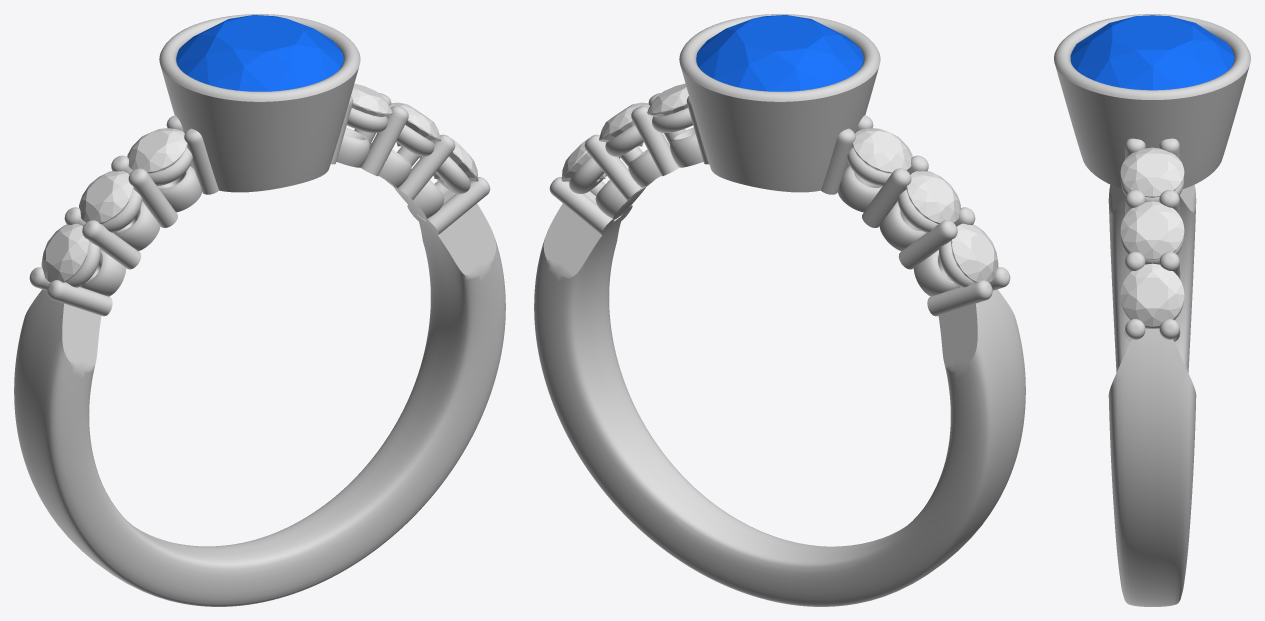
The model's file is bluesapphire-round-platinum-bezelset-straighttaperedband-3stone.glb.
3 views of the same model, side by side, from view 1: azimuth 30°, elevation 25°; view 2: azimuth 150°, elevation 25°; view 3: azimuth 270°, elevation 25° (orthographic). The views are drawn at different scales.
Parts seen in each view (by area): view 1: metal, stone, side.001, side.002, side, side.003, side.004; view 2: metal, stone, side.001, side.002, side, side.003, side.004; view 3: metal, stone, side.005, side.004, side.003.
Part boxes in pixels (bbox=[...]): metal: bbox=[14, 14, 505, 606]; stone: bbox=[176, 15, 343, 91]; side.001: bbox=[79, 171, 133, 223]; side.002: bbox=[41, 223, 88, 282]; side: bbox=[127, 128, 187, 173]; side.003: bbox=[351, 83, 392, 116]; side.004: bbox=[390, 102, 440, 146]; metal: bbox=[534, 14, 1025, 606]; stone: bbox=[696, 15, 863, 91]; side.001: bbox=[906, 171, 960, 223]; side.002: bbox=[951, 223, 998, 282]; side: bbox=[852, 128, 912, 173]; side.003: bbox=[647, 83, 688, 116]; side.004: bbox=[599, 102, 649, 146]; metal: bbox=[1054, 14, 1250, 606]; stone: bbox=[1070, 15, 1234, 90]; side.005: bbox=[1120, 263, 1184, 326]; side.004: bbox=[1120, 201, 1184, 259]; side.003: bbox=[1120, 147, 1184, 197].
Bounding box in the file's own units: 20.51 × 23.82 × 7.74.
